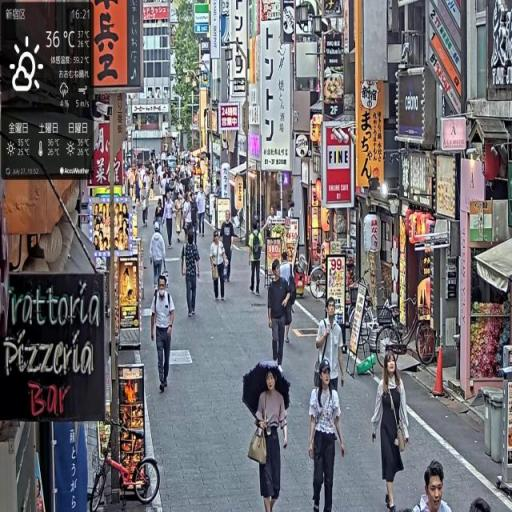person: (370, 346, 412, 512), (248, 364, 290, 512), (307, 358, 346, 512), (151, 273, 177, 400), (316, 298, 347, 399), (267, 259, 293, 373), (414, 461, 455, 512), (182, 232, 202, 321), (281, 252, 299, 349), (150, 221, 169, 295), (220, 210, 238, 288), (211, 231, 228, 304), (249, 223, 265, 296), (164, 192, 176, 248), (197, 188, 207, 239)
